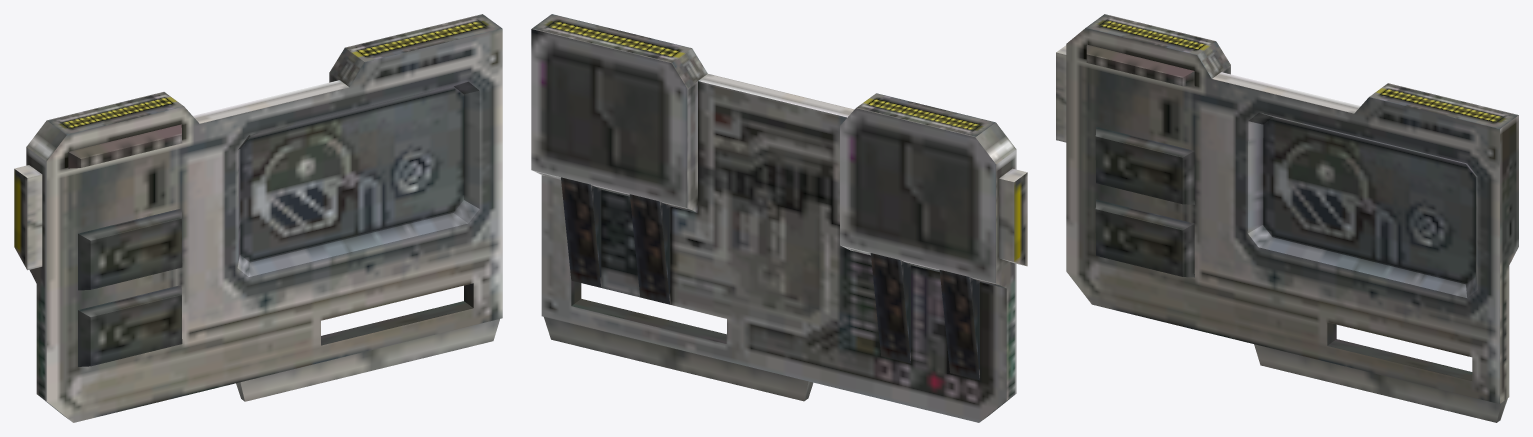
Rendered from eqp_circuit_board_s01_l0.fbx.
3 views of the same model, side by side, from view 1: azimuth 30°, elevation 25°; view 2: azimuth 150°, elevation 25°; view 3: azimuth 330°, elevation 25° (orthographic). The views are drawn at different scales.
Visible parts, largest first — view 1: mesh_node; view 2: mesh_node; view 3: mesh_node.
Boxes of the visible parts, box(x1,y1,x2,y2) form: mesh_node: box(14, 14, 502, 422); mesh_node: box(531, 14, 1027, 422); mesh_node: box(1056, 14, 1518, 422).
Bounding box in the file's own units: 0.3201 × 0.2032 × 0.0314.
1 material, 1 textured.
